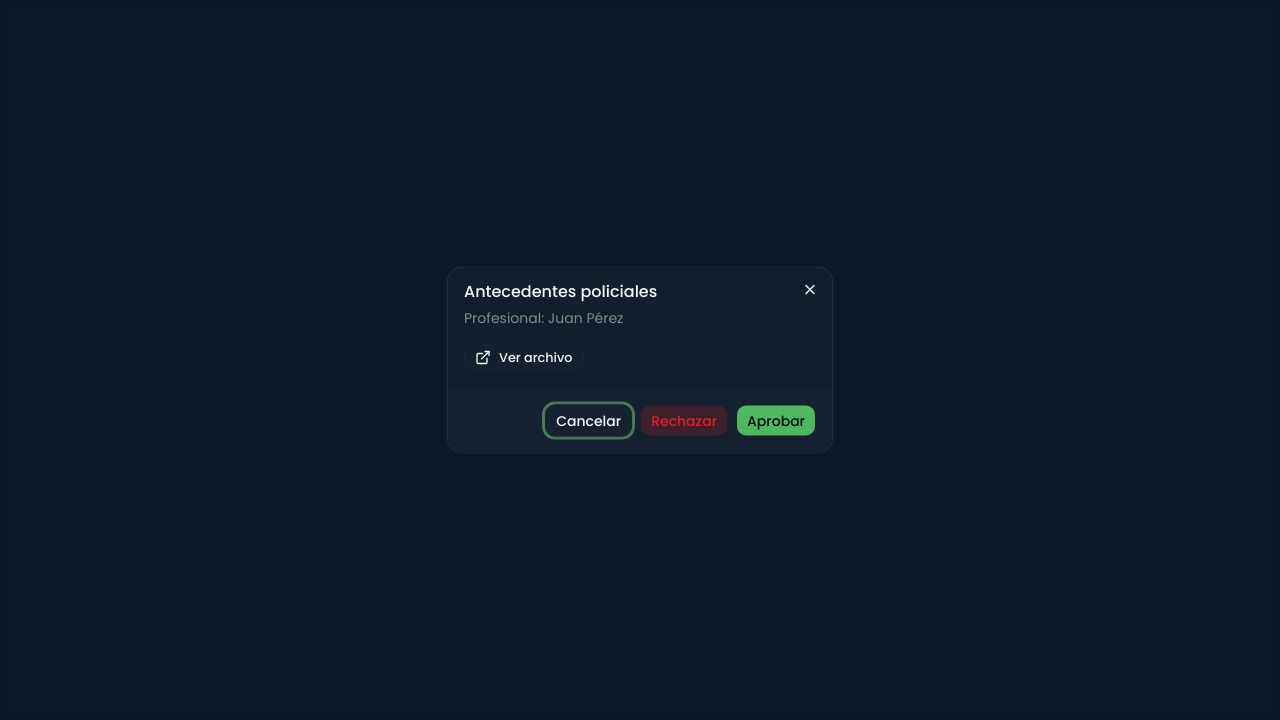
it: DocumentReviewDialog › exige un motivo antes de confirmar el rechazo
This screenshot has width=1280, height=720.
Expected: the heading "Antecedentes policiales" is shown, [464, 280, 657, 302]
Click the button "Rechazar" at (684,420), box [640, 404, 728, 436]
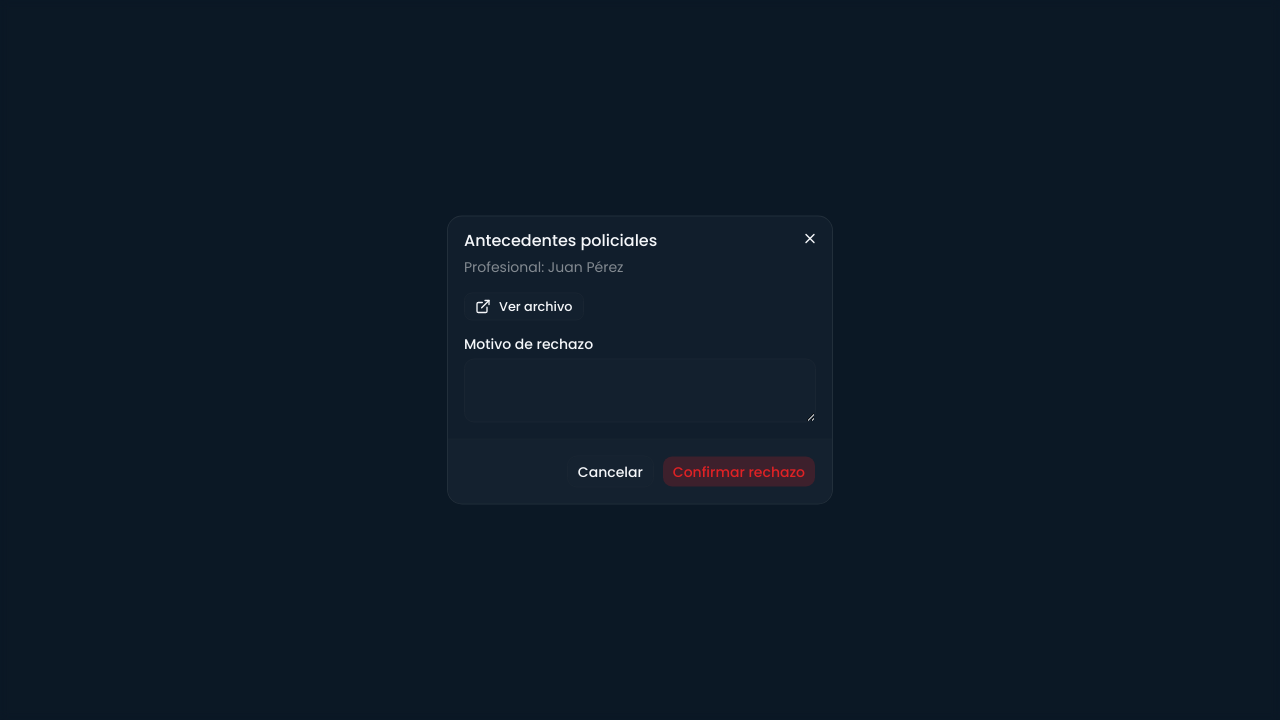
Click the button "Confirmar rechazo" at (739,472), box [662, 456, 816, 488]
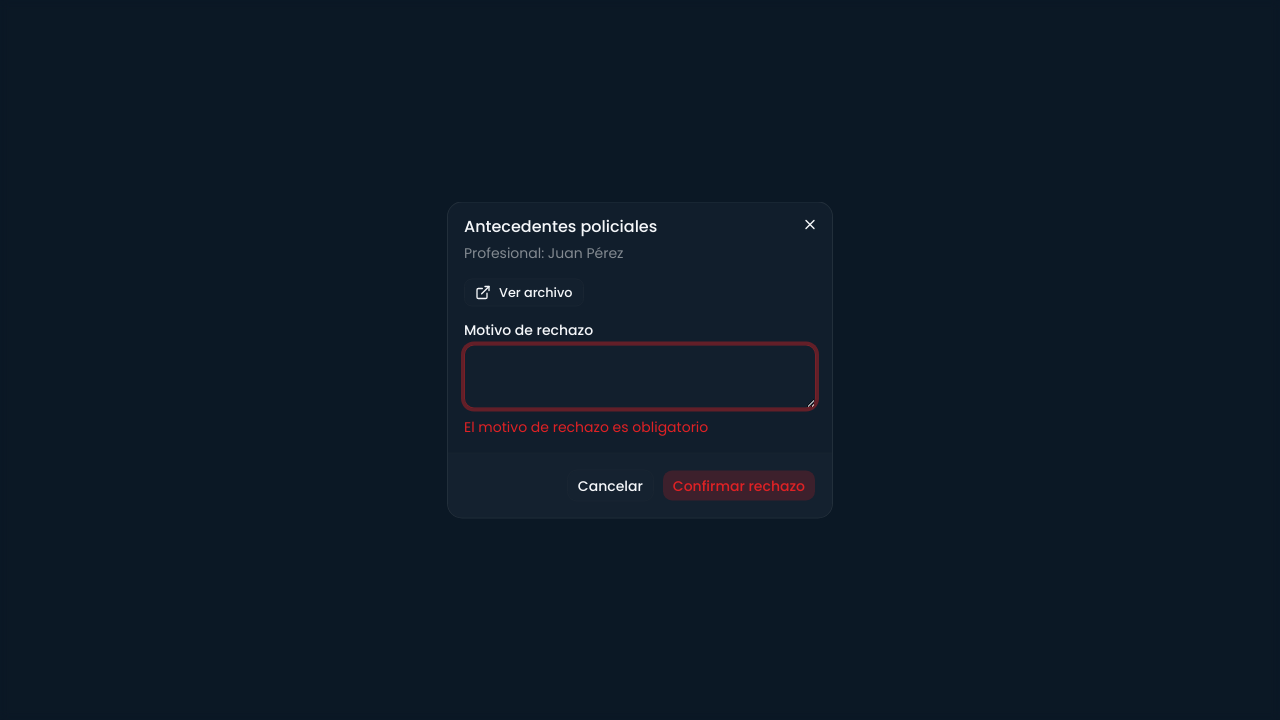
Expected: the text "El motivo de rechazo es obligatorio" is shown, [464, 416, 708, 436]
